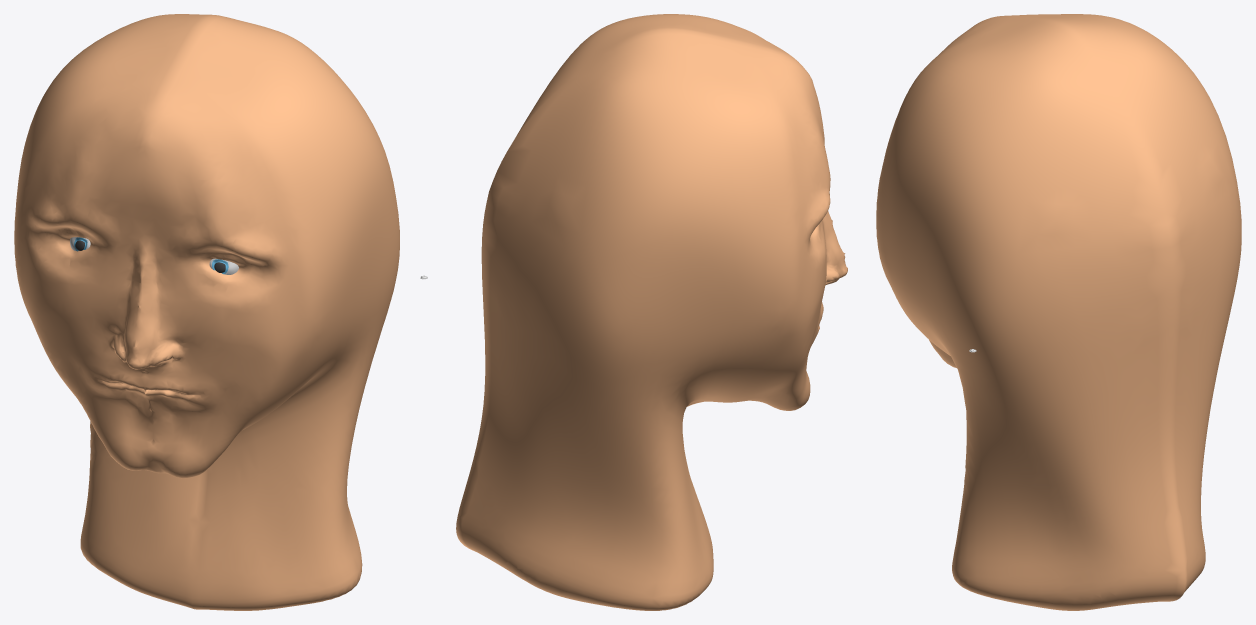
Rendered from meme_man.glb.
3 renders of one model, left to right at view 1: azimuth 30°, elevation 25°; view 2: azimuth 150°, elevation 25°; view 3: azimuth 270°, elevation 25°, orthographic. The views are drawn at different scales.
Visible parts, largest first — view 1: Cube, Cube.001; view 2: Cube; view 3: Cube.
Boxes of the visible parts, left/top/right/bottom form: Cube: left=14, top=14, right=399, bottom=610; Cube.001: left=70, top=237, right=238, bottom=274; Cube: left=456, top=14, right=847, bottom=610; Cube: left=876, top=14, right=1241, bottom=610.
Bounding box in the file's own units: 6.99 × 11.19 × 6.9.
